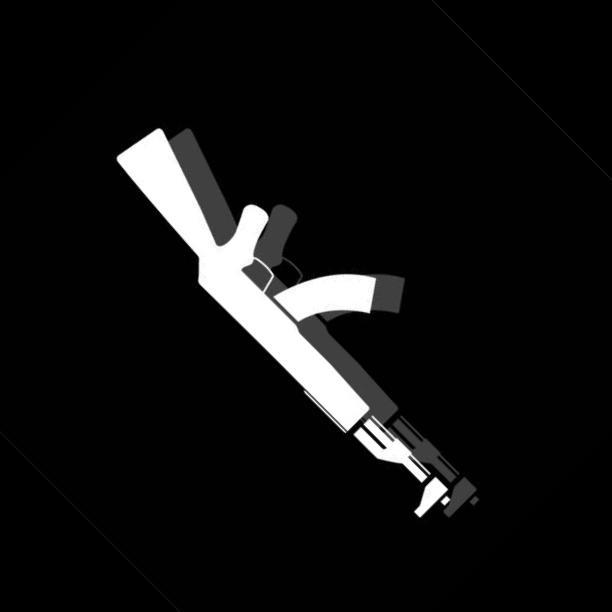larga: (117, 126, 450, 517), (166, 129, 480, 517)
